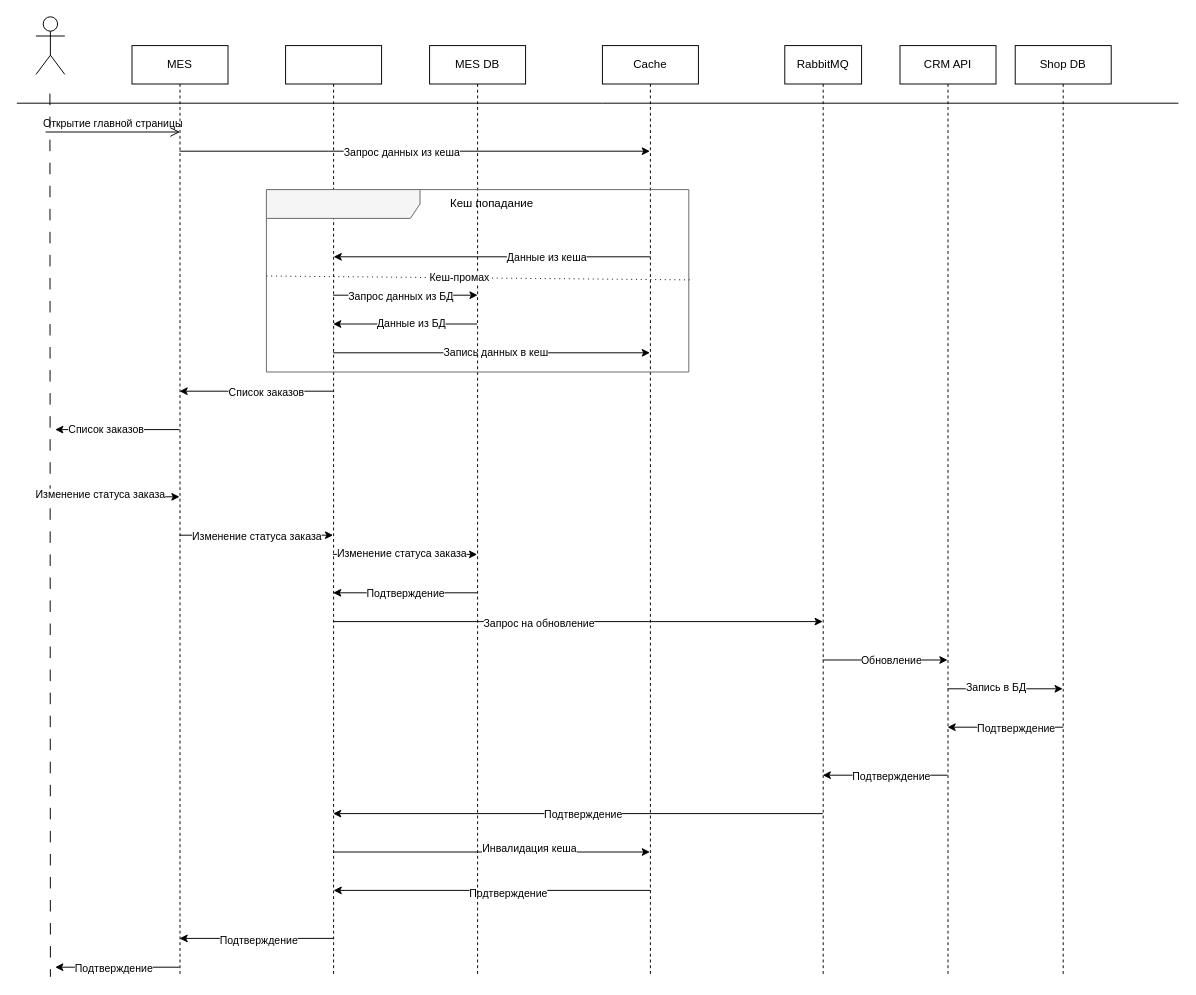
Some shapes in this 1196 by 995 pixel diagram are drawn without their labels. The box of each missing label's shape, as (x1, y1, x2, y2) in pixels:
alt: (265, 189, 689, 372)
MES API: (285, 45, 382, 977)
Оператор: (35, 16, 65, 74)
